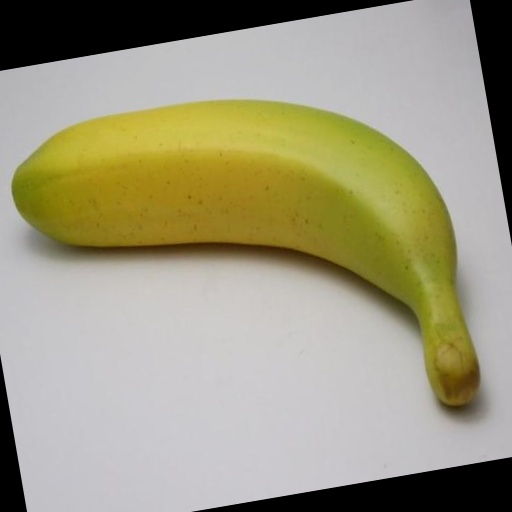fruit: (12, 100, 480, 405)
